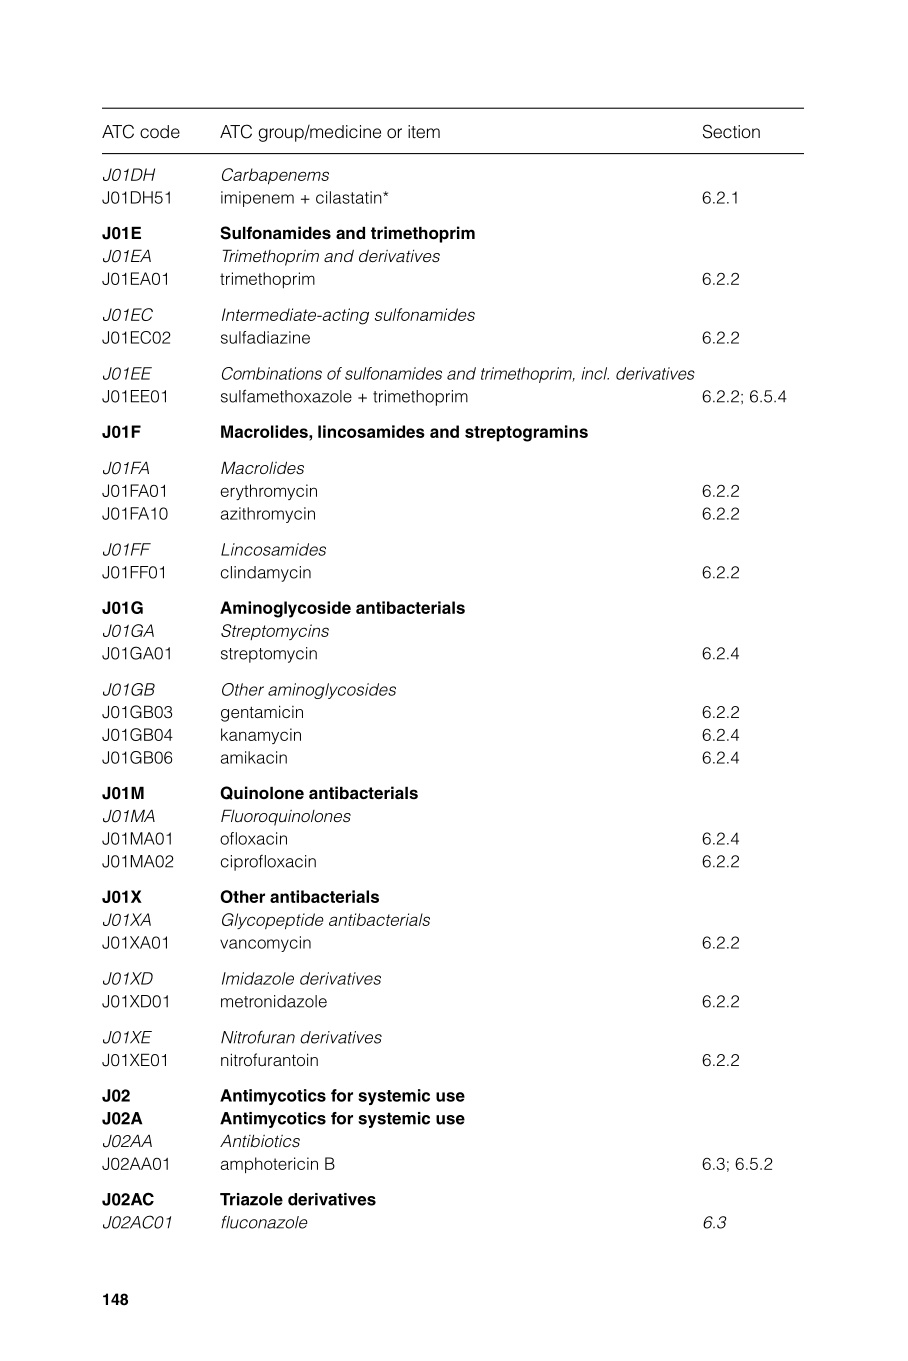partial_lined: (101, 106, 804, 1247)
